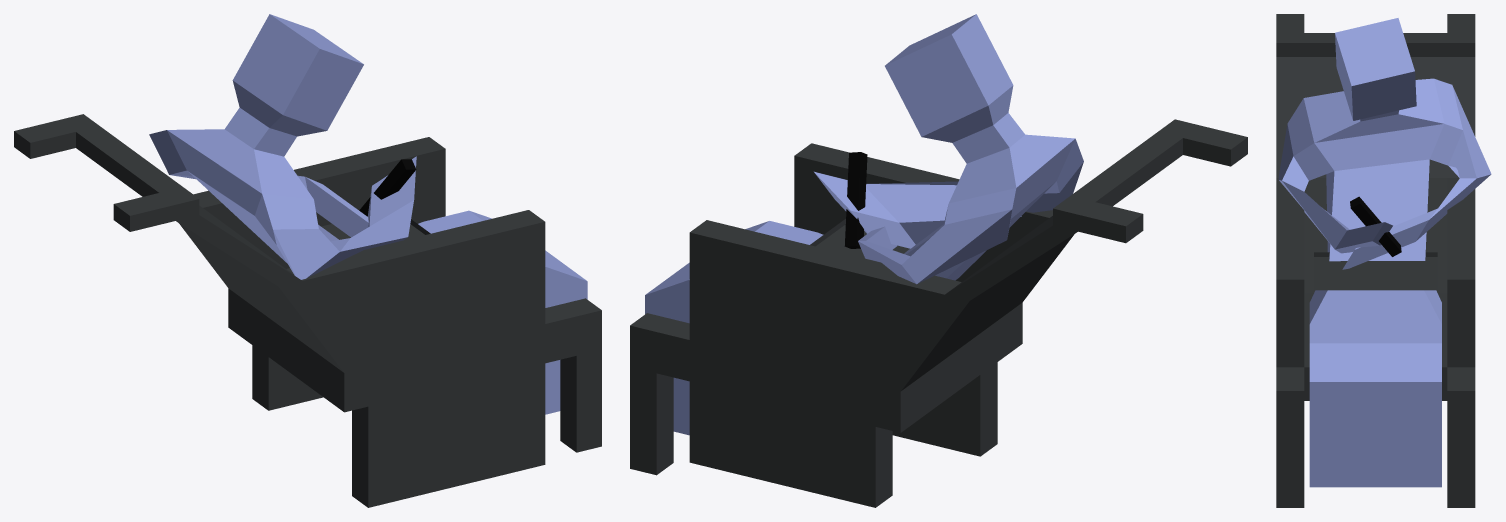
File: wheelchairme.gltf
3 views of the same model, side by side, from view 1: azimuth 30°, elevation 25°; view 2: azimuth 150°, elevation 25°; view 3: azimuth 270°, elevation 25° (orthographic). The views are drawn at different scales.
Parts seen in each view (by area): view 1: Cube; view 2: Cube; view 3: Cube.
Boxes of the visible parts, x1,y1,x2,y2 form: Cube: (14,14,601,507); Cube: (630,14,1247,507); Cube: (1276,14,1491,507).
Size of the model in its own units: 4.75 by 4.27 by 2.16.
